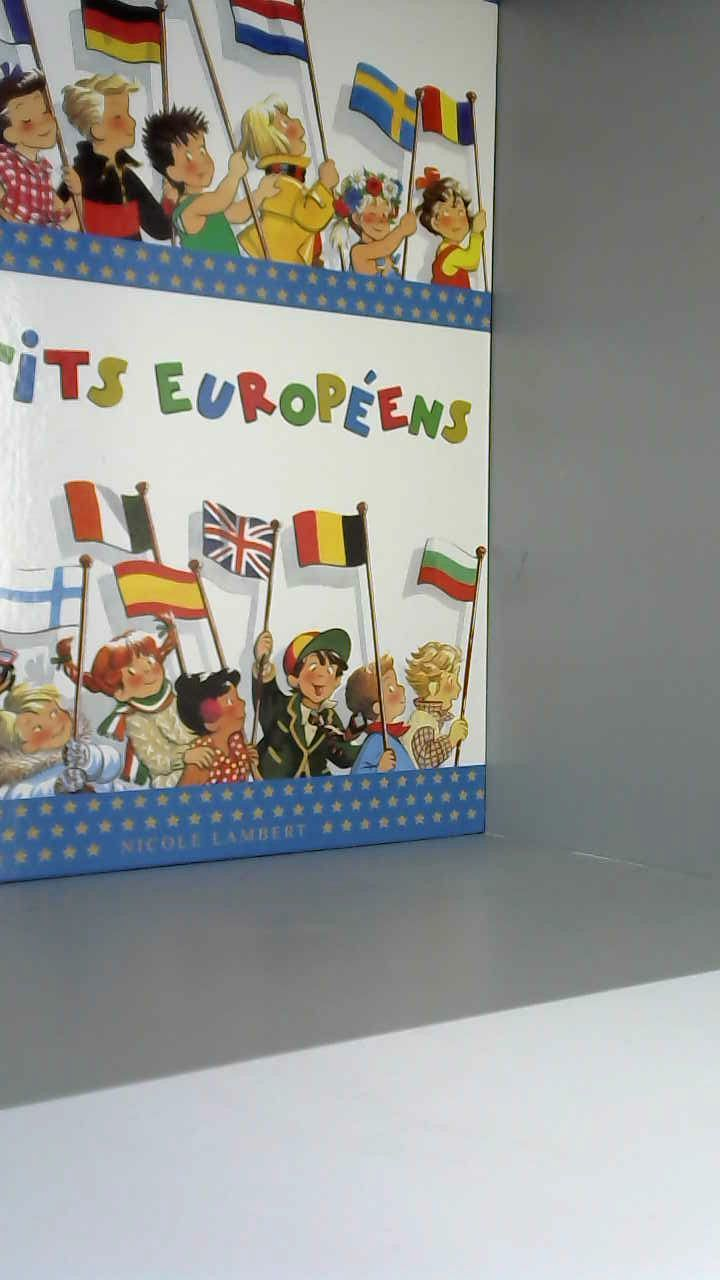book: (0, 0, 546, 912)
